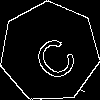C: (24, 27, 81, 85)
